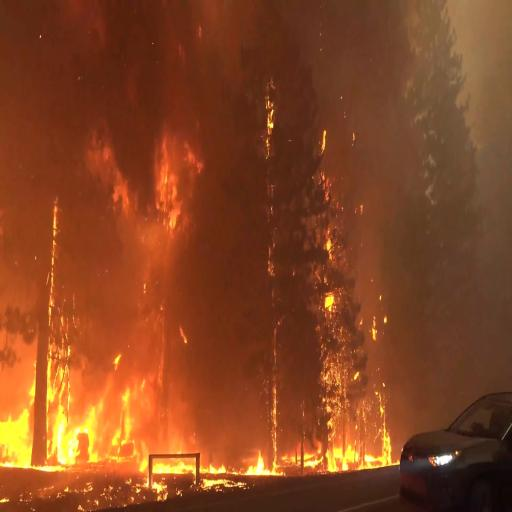fire: (0, 347, 125, 466), (323, 432, 391, 471), (246, 442, 276, 486)
